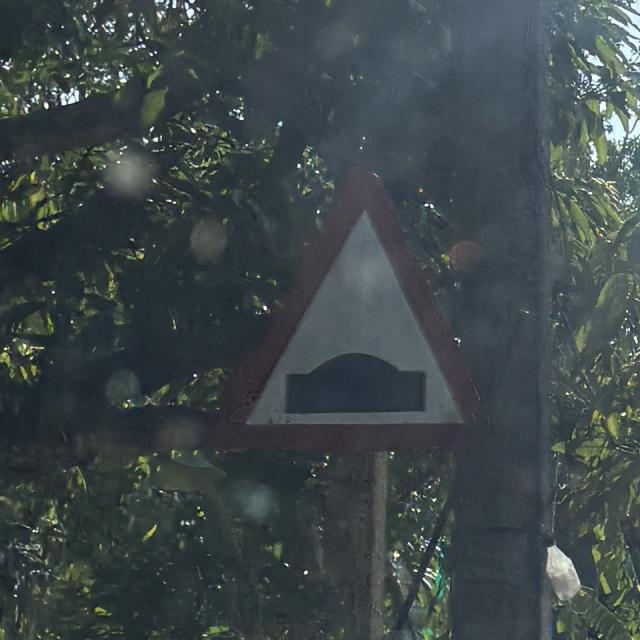HUMP_OR_ROUGH_ROAD: (211, 168, 485, 455)
